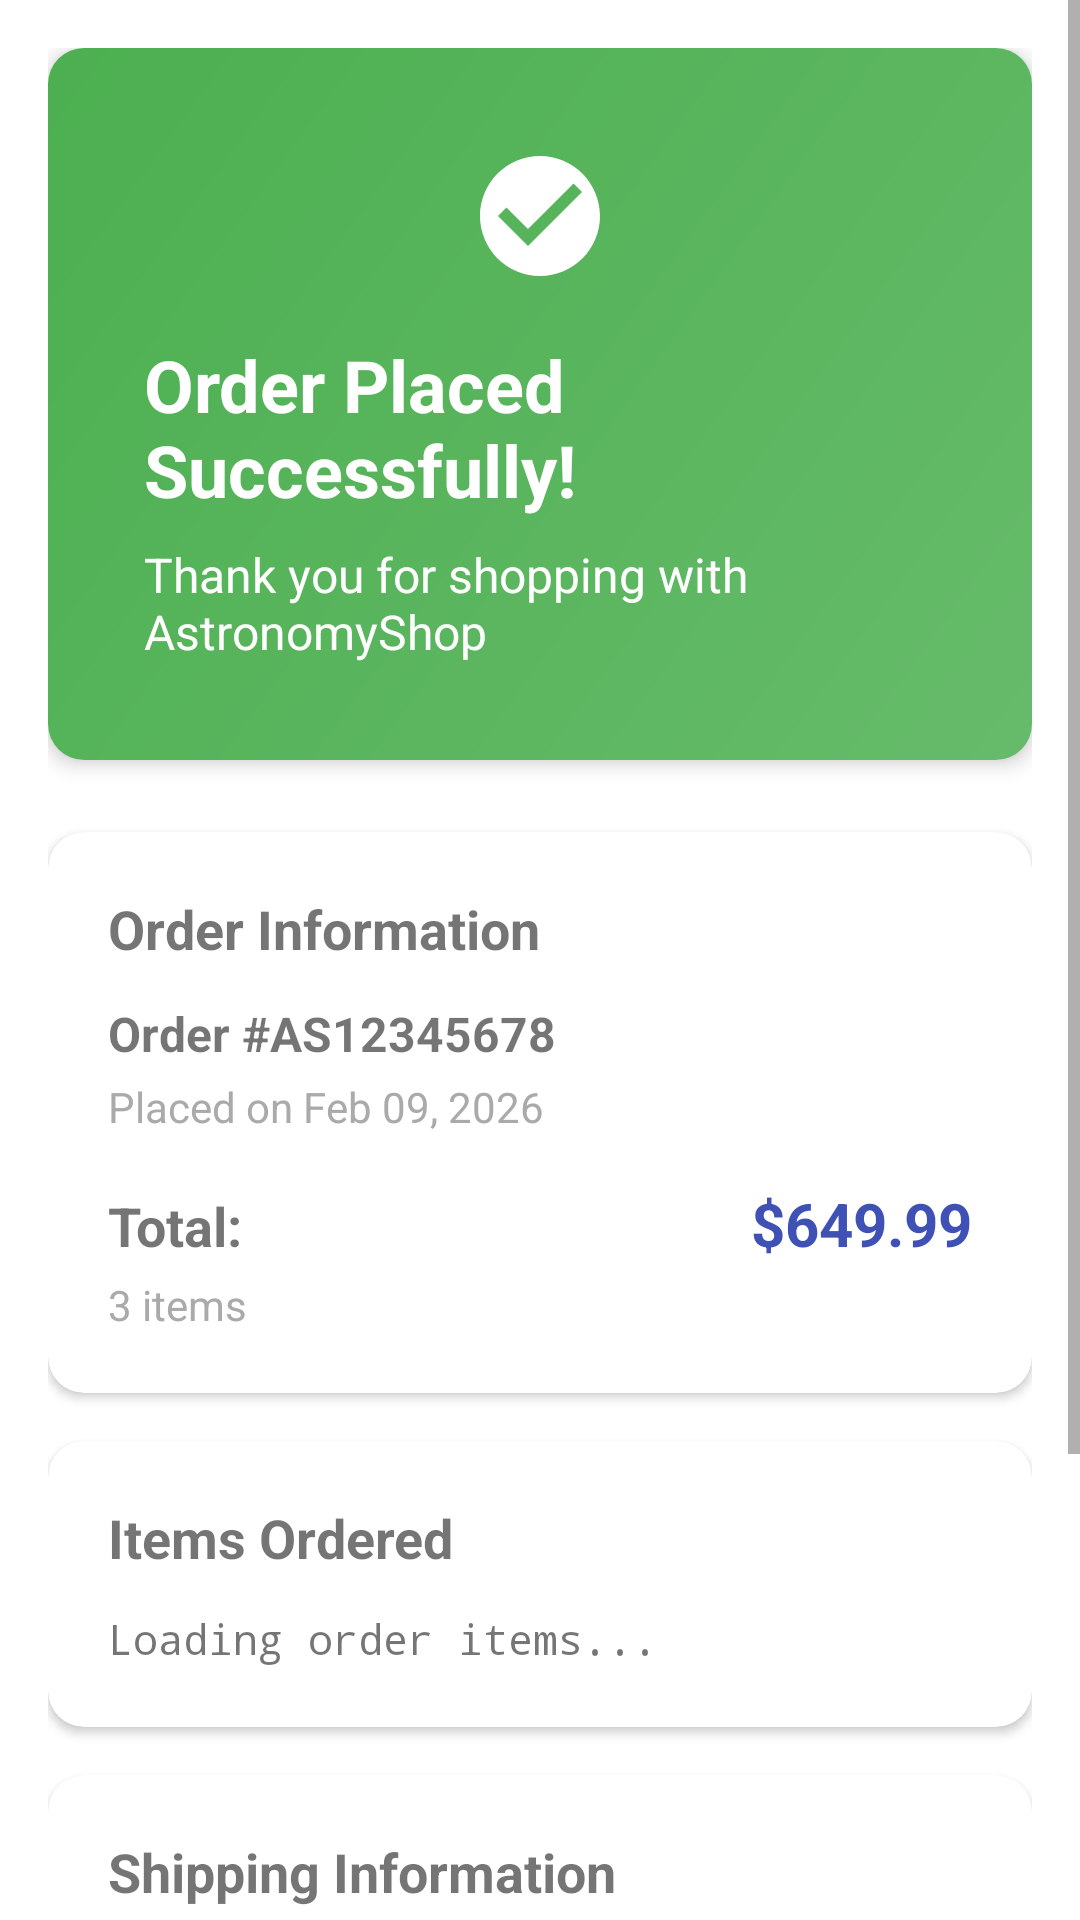

Where to tap for icons on this 1080 × 1920 app screen, as (x,y):
check circle: (540,216)
